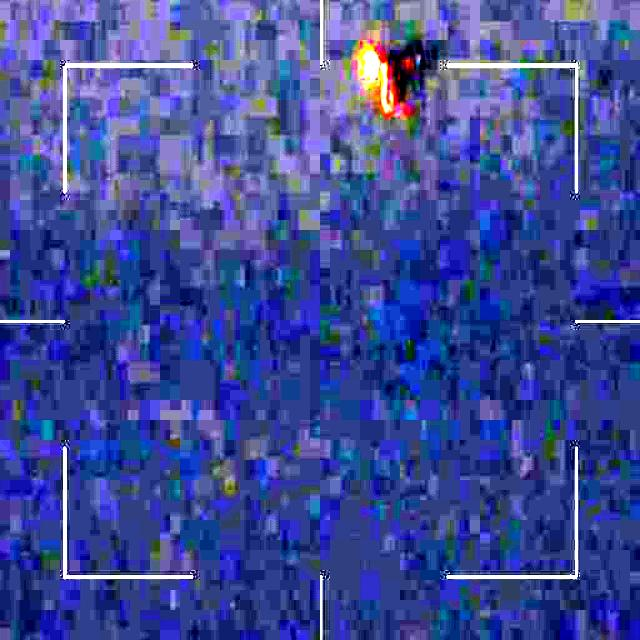bird: (356, 34, 450, 128)
